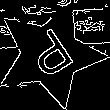P_SE: (20, 23, 80, 85)
